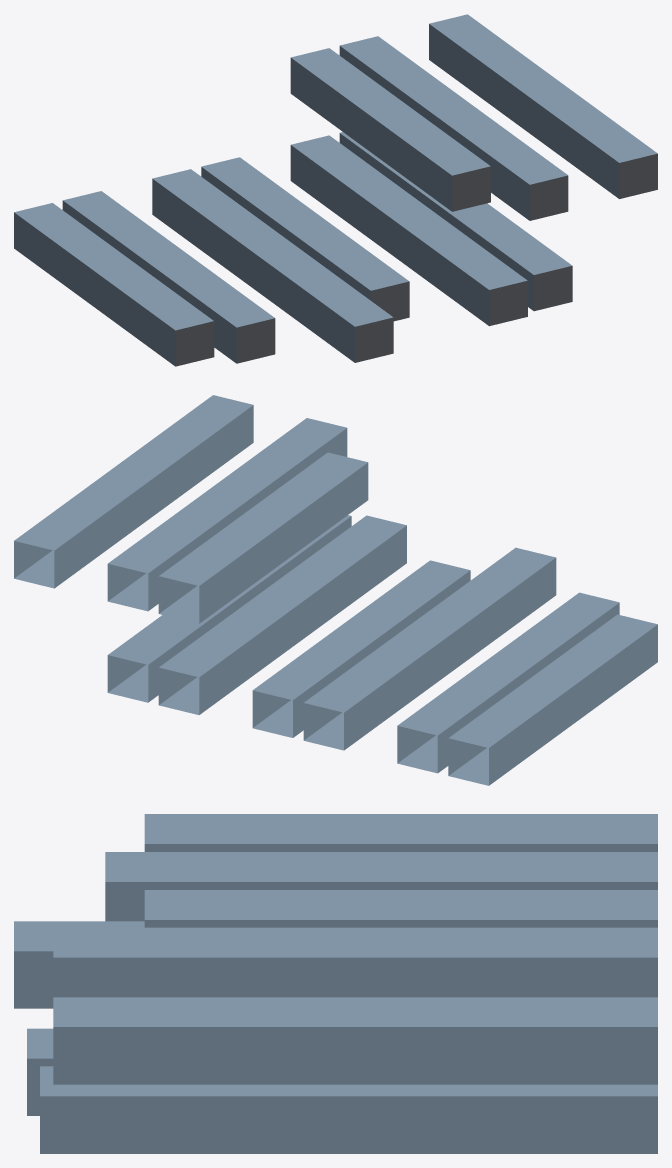
The model's file is island_bldg_10_10.obj.
3 views of the same model, one above another, from view 1: azimuth 30°, elevation 25°; view 2: azimuth 150°, elevation 25°; view 3: azimuth 270°, elevation 25° (orthographic). The views are drawn at different scales.
Visible parts, largest first — view 1: island_bldg_10_10; view 2: island_bldg_10_10; view 3: island_bldg_10_10.
Boxes of the visible parts, x1,y1,x2,y2 form: island_bldg_10_10: (14,14,657,366); island_bldg_10_10: (14,395,657,785); island_bldg_10_10: (14,814,657,1153).
Bounding box in the file's own units: 223 × 58 × 172.
